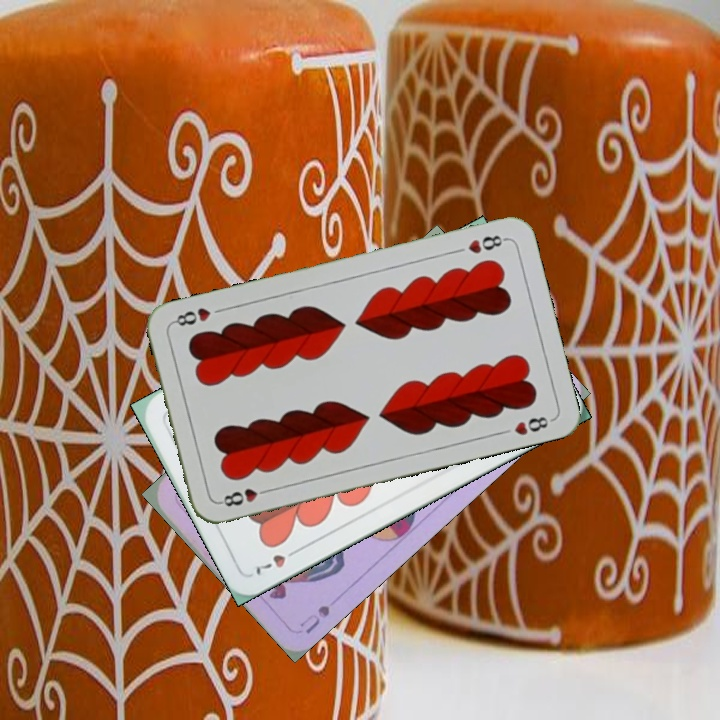H7: (251, 544, 303, 578)
H8: (215, 484, 273, 509), (463, 231, 509, 256)
SU: (295, 601, 333, 637)
